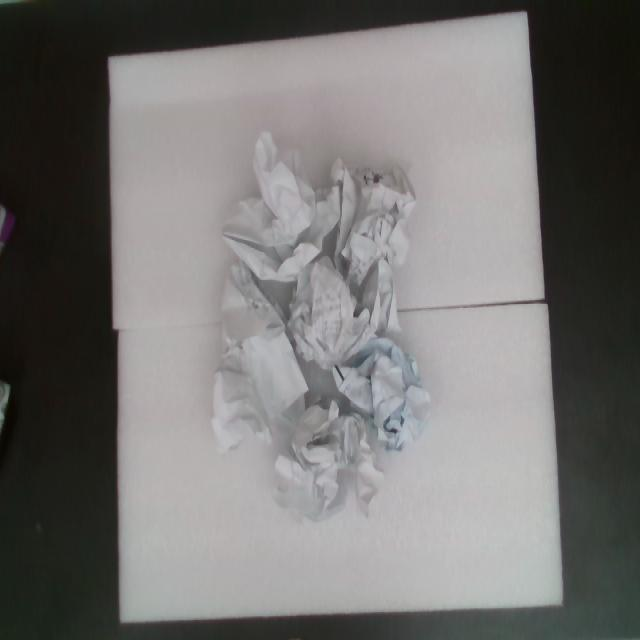paper: (171, 110, 371, 324), (291, 295, 483, 481), (230, 375, 411, 557), (295, 140, 460, 332), (198, 265, 318, 456), (284, 241, 382, 383)
